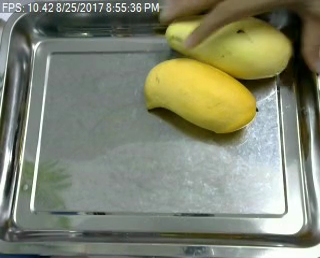Mango: (163, 7, 295, 80), (141, 57, 258, 136)
